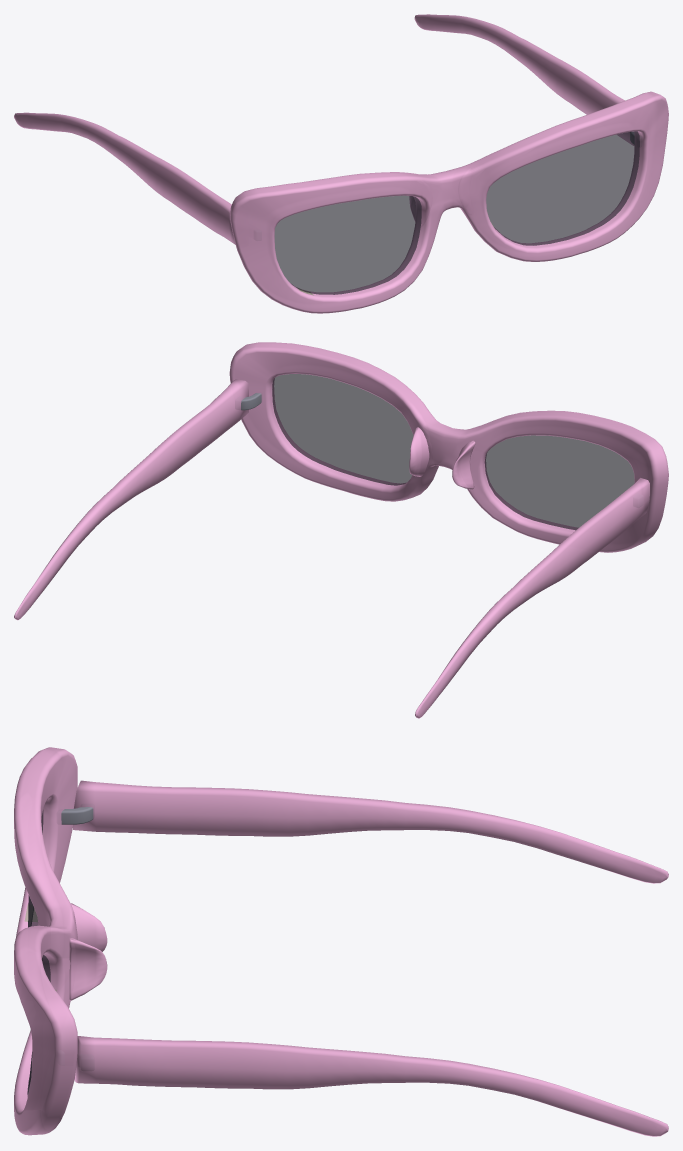
3 renders of one model, top to bottom at view 1: azimuth 30°, elevation 25°; view 2: azimuth 150°, elevation 25°; view 3: azimuth 270°, elevation 25°, orthographic. The views are drawn at different scales.
Visible parts, largest first — view 1: model1 .003; view 2: model1 .003; view 3: model1 .003.
Boxes of the visible parts, x1,y1,x2,y2 form: model1 .003: [14, 14, 668, 313]; model1 .003: [14, 342, 668, 718]; model1 .003: [14, 747, 668, 1136].
Bounding box in the file's own units: 0.14 × 0.0406 × 0.14.
